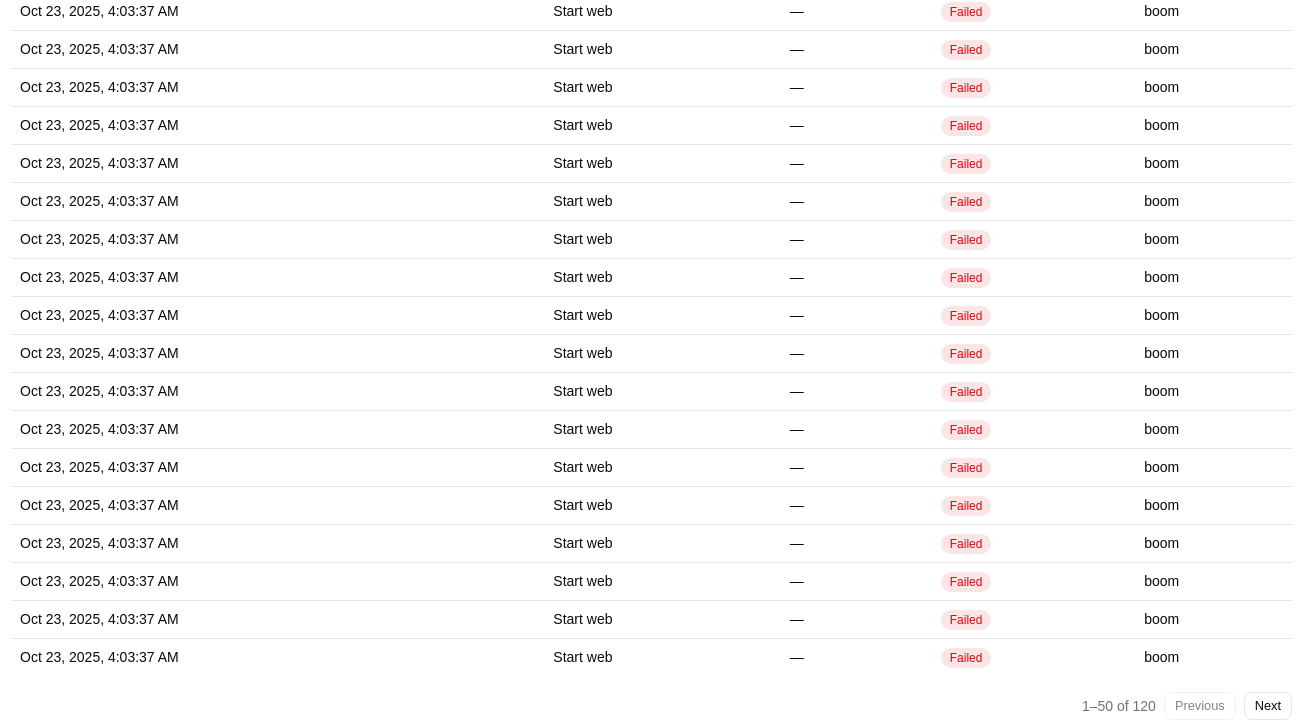
Scenario: goes back to the first page when the filter changes
(page scrolled)
Click the button "Next": (1268, 706) left=1244, top=692, right=1292, bottom=719
(page scrolled)
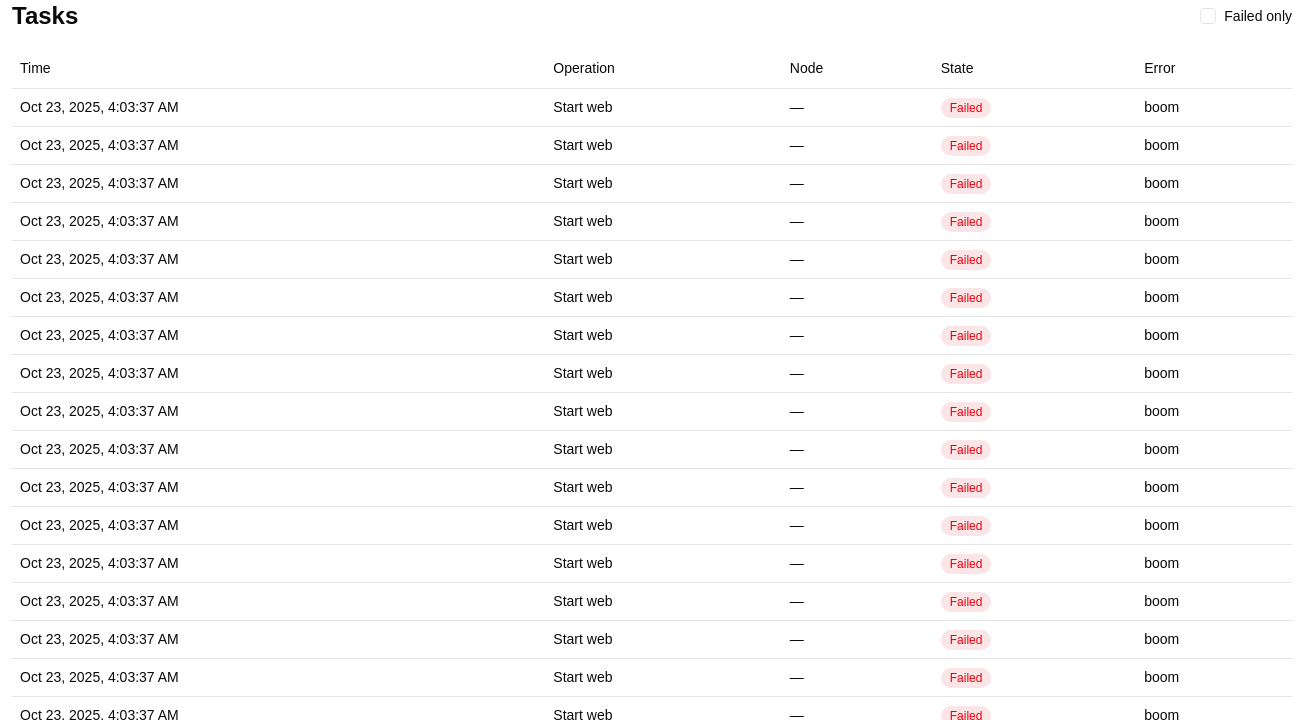
Click the checkbox named "Failed only": (1208, 16) left=1200, top=8, right=1216, bottom=24
(page scrolled)
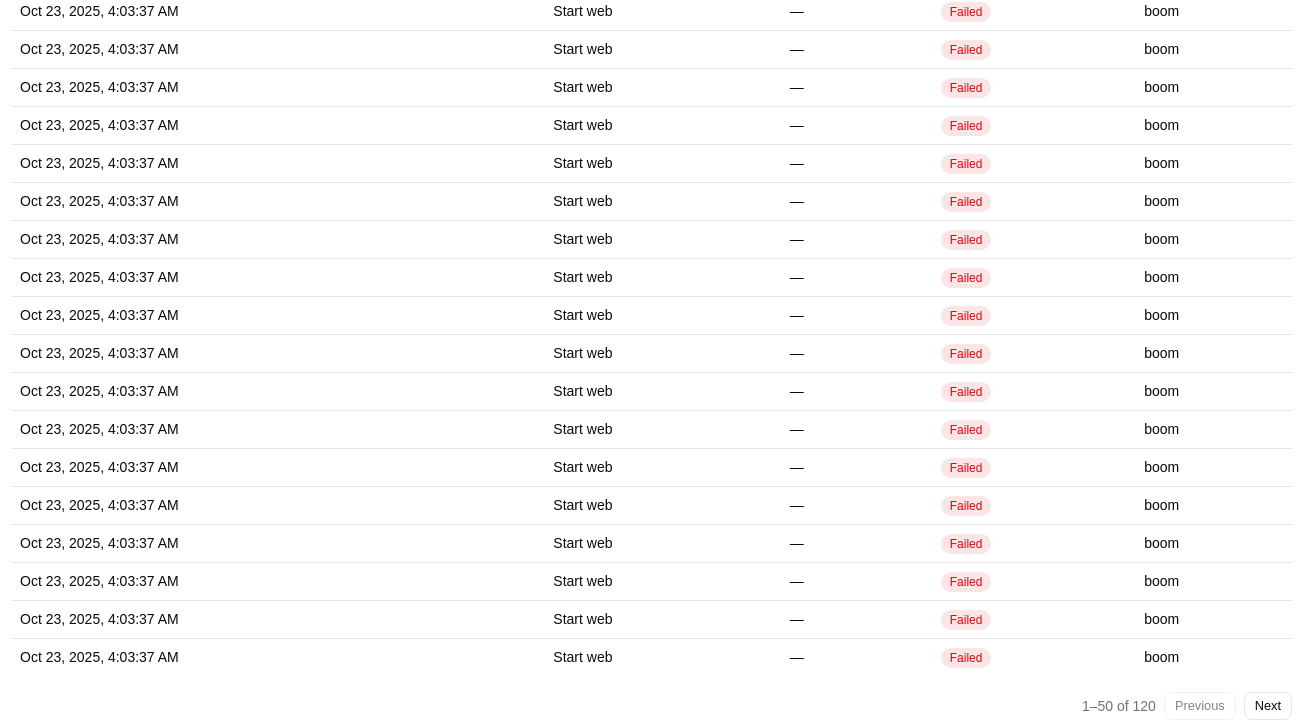
Expected: the text "1–50 of 120" is shown, left=1082, top=696, right=1156, bottom=716
